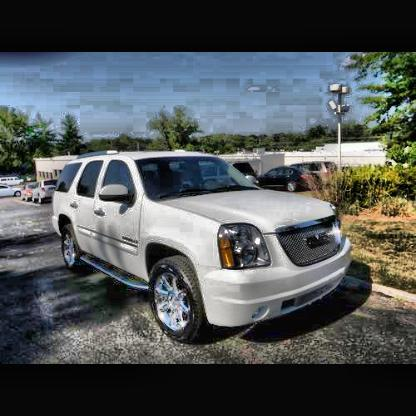GMC Yukon Hybrid SUV 2012: (53, 151, 352, 346)
